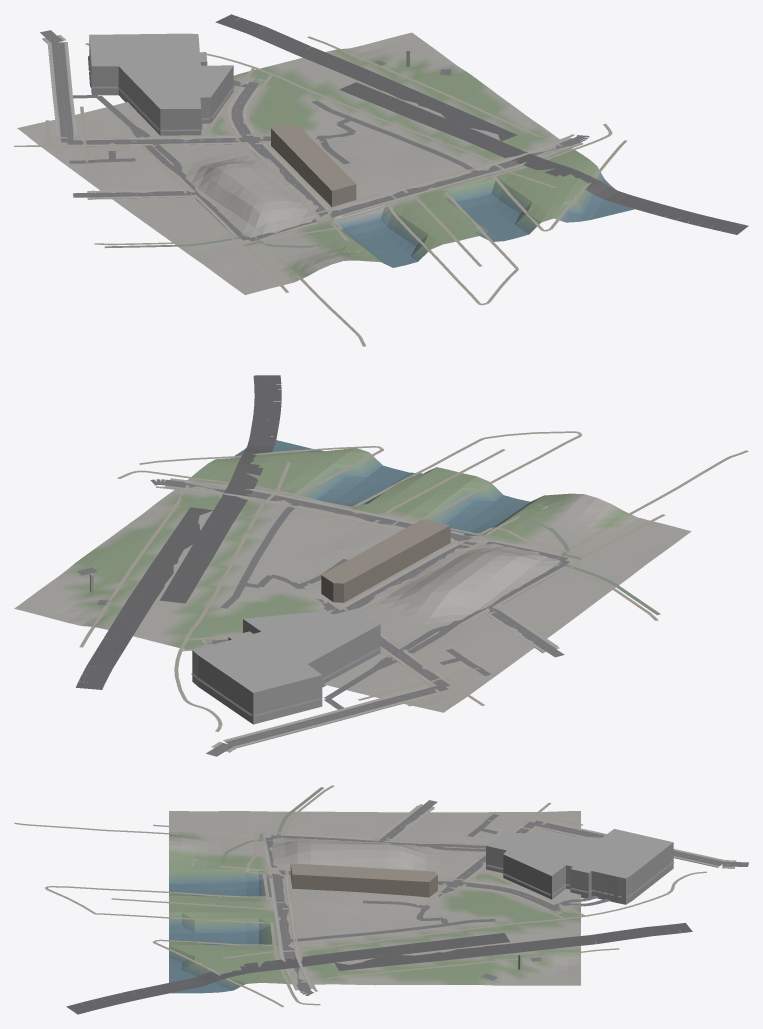
File: tile_-1_4.glb
The picture shows the model from 3 angles, top to bottom: view 1: azimuth 30°, elevation 25°; view 2: azimuth 150°, elevation 25°; view 3: azimuth 270°, elevation 25°; orthographic projection. The views are drawn at different scales.
Parts seen in each view (by area): view 1: terrain, roads, buildings, paths, sidewalks; view 2: terrain, roads, buildings, paths, sidewalks; view 3: terrain, roads, buildings, paths, sidewalks, awnings.
Boxes of the visible parts, left/top/right/bottom form: terrain: left=17, top=32, right=634, bottom=294; roads: left=40, top=14, right=748, bottom=241; buildings: left=89, top=33, right=409, bottom=206; paths: left=14, top=36, right=627, bottom=346; sidewalks: left=42, top=35, right=583, bottom=236; terrain: left=14, top=440, right=691, bottom=712; roads: left=76, top=375, right=569, bottom=756; buildings: left=90, top=519, right=450, bottom=724; paths: left=79, top=431, right=748, bottom=731; sidewalks: left=164, top=478, right=564, bottom=752; terrain: left=169, top=811, right=580, bottom=993; roads: left=66, top=800, right=748, bottom=1014; buildings: left=290, top=829, right=673, bottom=969; paths: left=14, top=785, right=706, bottom=1007; sidewalks: left=264, top=804, right=736, bottom=990; awnings: left=486, top=861, right=674, bottom=897.
Bounding box in the file's own units: 333 × 23.78 × 457.
